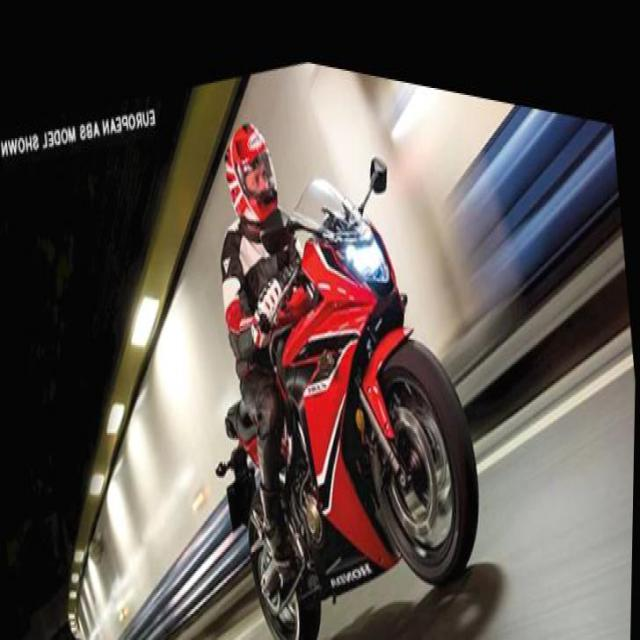CBR650R: (208, 88, 501, 638)
